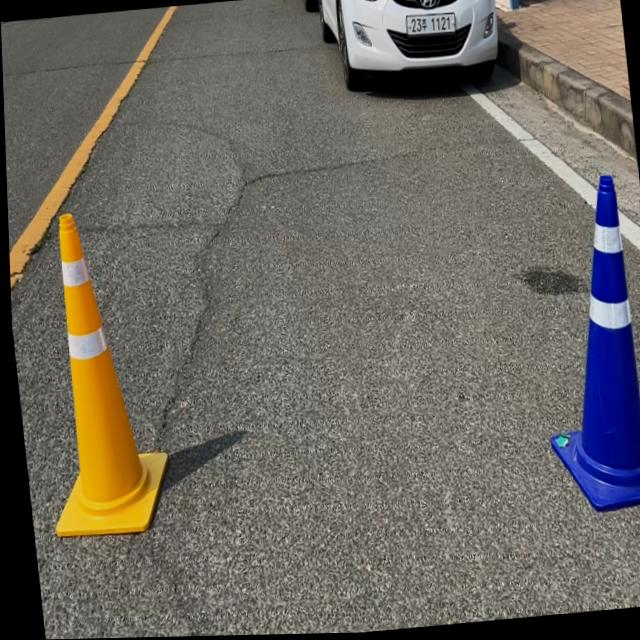b_rub: (548, 176, 640, 513)
y_rub: (51, 213, 163, 537)
